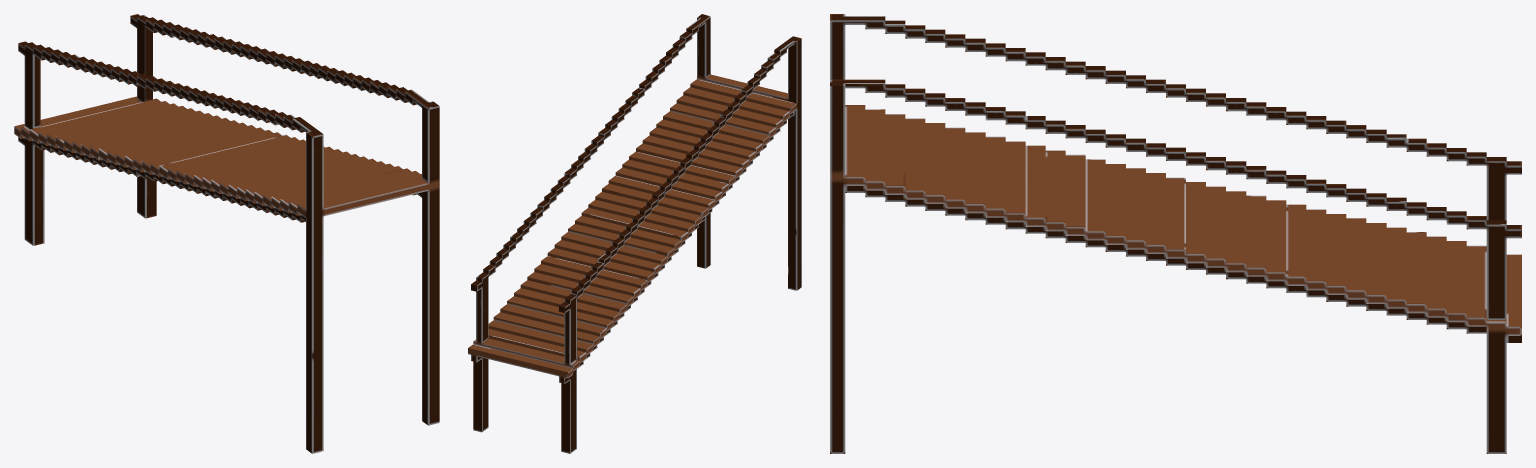
Rendered from Escadinha.fbx.
3 renders of one model, left to right at view 1: azimuth 30°, elevation 25°; view 2: azimuth 150°, elevation 25°; view 3: azimuth 270°, elevation 25°, orthographic. The views are drawn at different scales.
Parts seen in each view (by area): view 1: Escadinha.001; view 2: Escadinha.001; view 3: Escadinha.001.
Part boxes in pixels (bbox=[...]): Escadinha.001: bbox=[14, 14, 439, 453]; Escadinha.001: bbox=[468, 14, 801, 453]; Escadinha.001: bbox=[830, 14, 1521, 453].
Bounding box in the file's own units: 3.4 × 8.1 × 13.8.
Materials: 1 (1 with a texture image).
